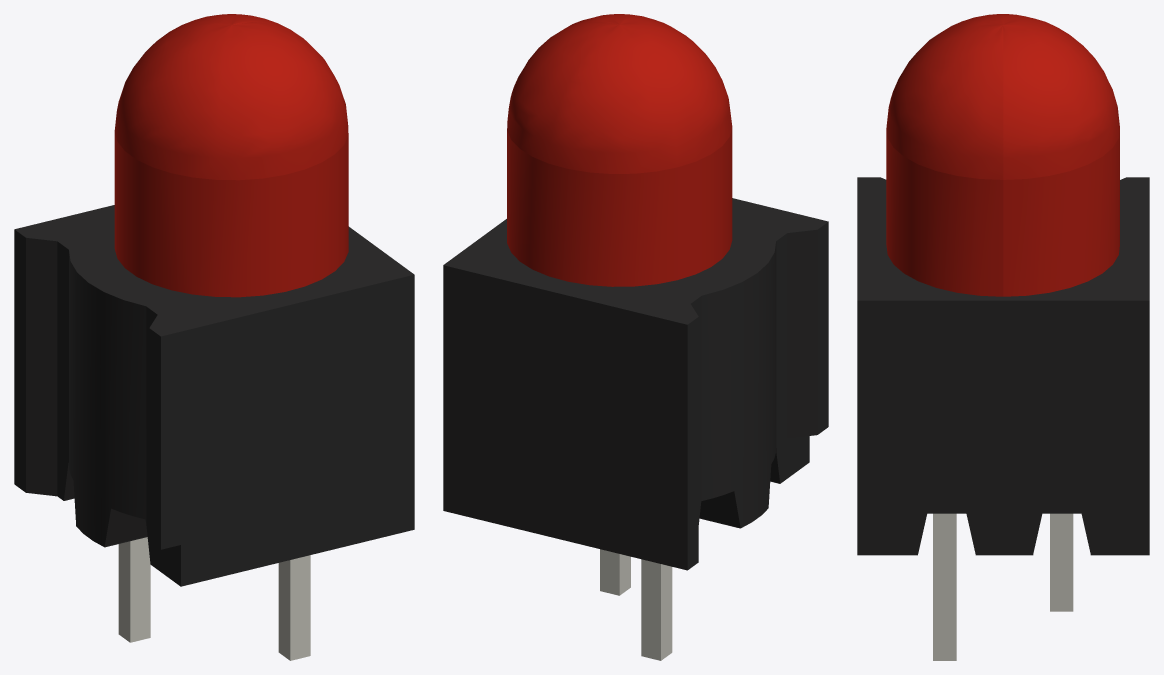
The model's file is kc-led_vcclite_5381h1_6.35x6.35mm.glb.
3 views of the same model, side by side, from view 1: azimuth 30°, elevation 25°; view 2: azimuth 150°, elevation 25°; view 3: azimuth 270°, elevation 25° (orthographic). The views are drawn at different scales.
Visible parts, largest first — view 1: 0_0_0_0, 0.4166666666666667_0_0_0, 0.6666666666666666_0.6666666666666666_0.5833333333333334_0.8; view 2: 0_0_0_0, 0.4166666666666667_0_0_0, 0.6666666666666666_0.6666666666666666_0.5833333333333334_0.8; view 3: 0_0_0_0, 0.4166666666666667_0_0_0, 0.6666666666666666_0.6666666666666666_0.5833333333333334_0.8.
Part boxes in pixels (x1,y1,x2,y2): 0_0_0_0: (14, 205, 414, 586); 0.4166666666666667_0_0_0: (114, 14, 348, 297); 0.6666666666666666_0.6666666666666666_0.5833333333333334_0.8: (118, 537, 310, 660); 0_0_0_0: (443, 198, 828, 570); 0.4166666666666667_0_0_0: (507, 14, 732, 286); 0.6666666666666666_0.6666666666666666_0.5833333333333334_0.8: (600, 549, 672, 660); 0_0_0_0: (857, 177, 1149, 555); 0.4166666666666667_0_0_0: (886, 14, 1119, 296); 0.6666666666666666_0.6666666666666666_0.5833333333333334_0.8: (933, 513, 1073, 660).
Bounding box in the file's own units: 0.635 × 1.47 × 0.635.
